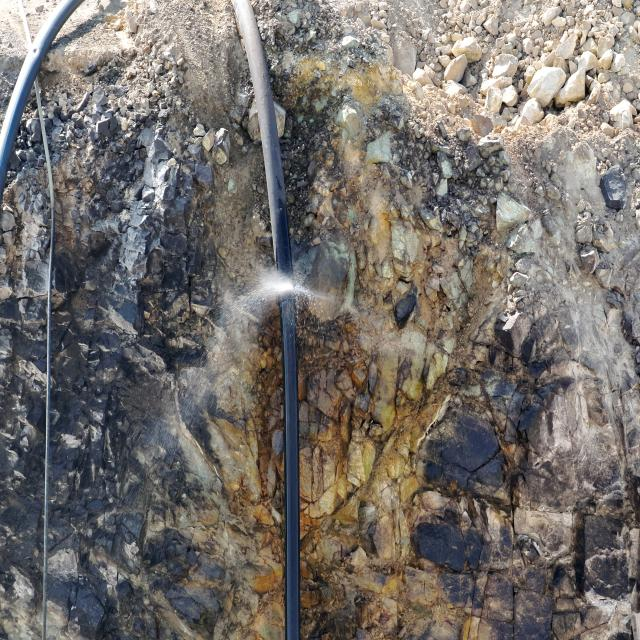leak: (130, 255, 393, 472)
